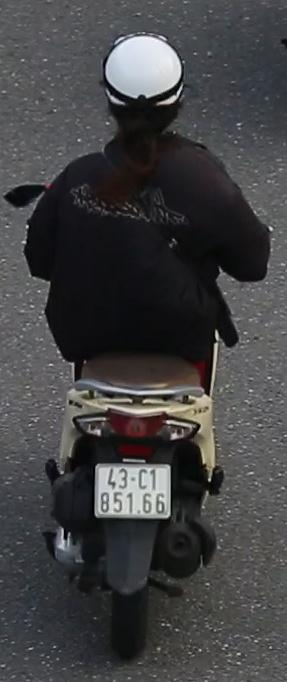LP: (87, 451, 178, 536)
helmet: (97, 25, 187, 133)
